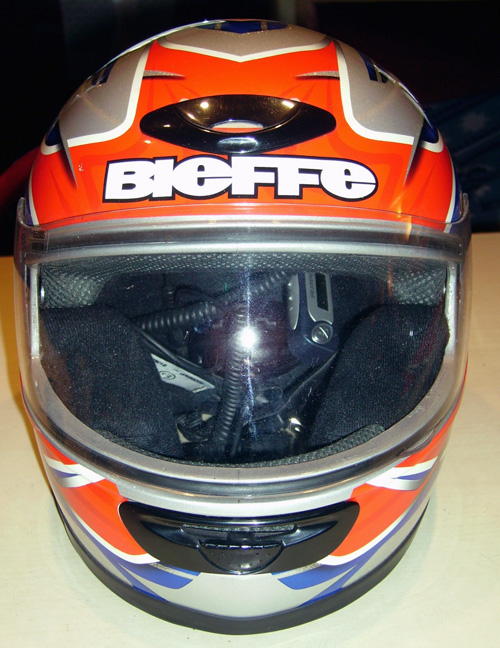helmet: (27, 50, 461, 612)
